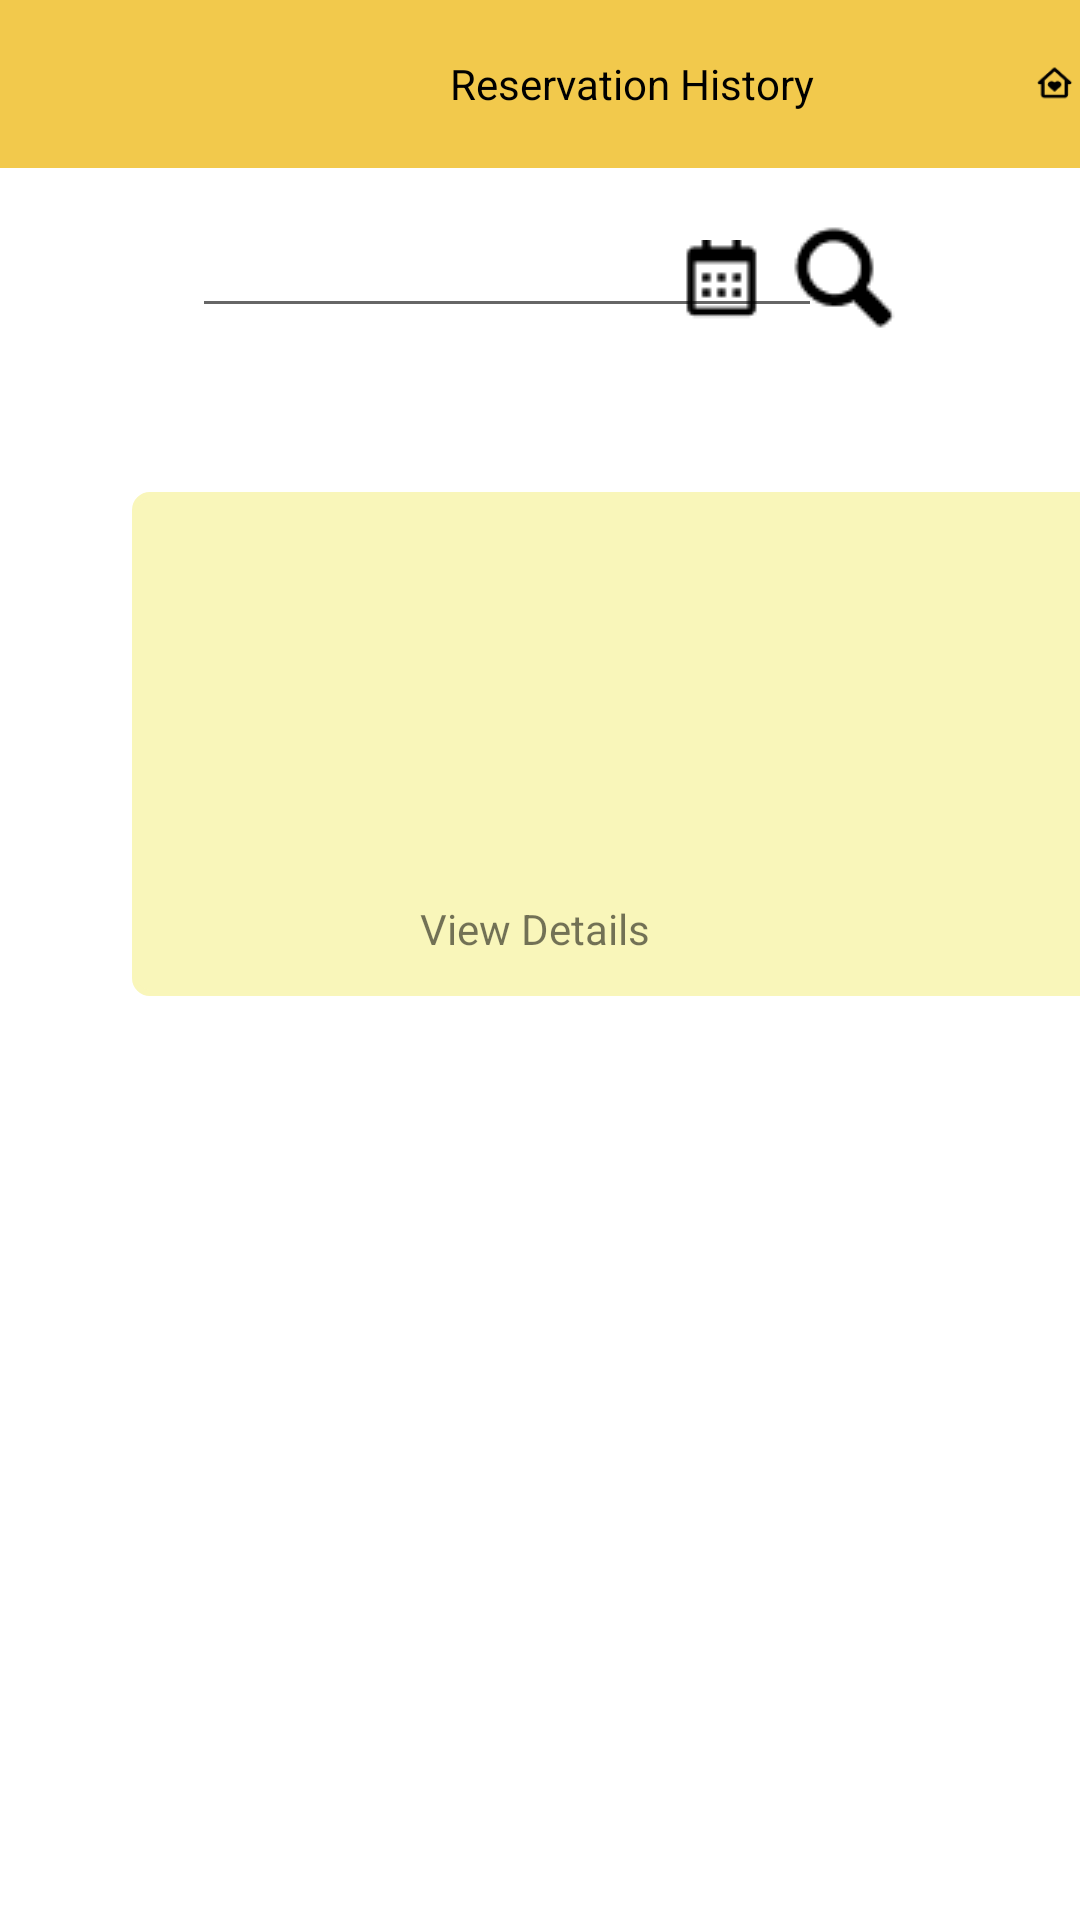

Point at icon controls on the screen. Image size 1080x1920, points as (x,y).
calendar: (721,278)
homepage: (1054,83)
search: (843,277)
